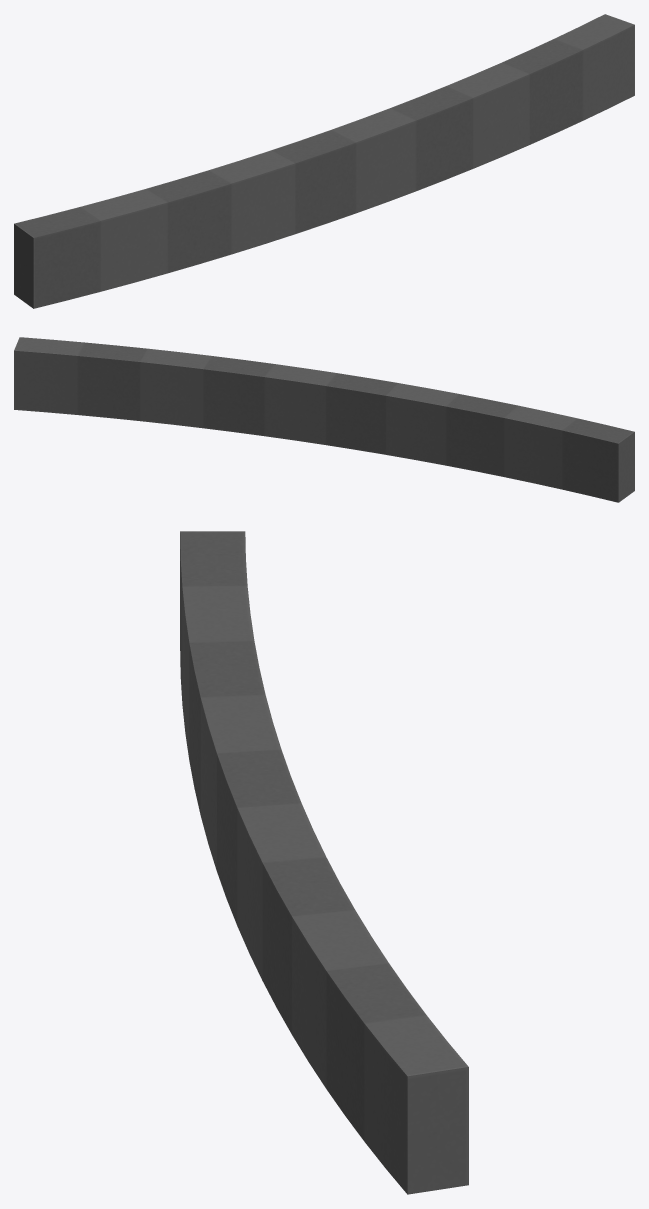
The model's file is Wall_L_20.glb.
The picture shows the model from 3 angles, top to bottom: view 1: azimuth 30°, elevation 25°; view 2: azimuth 150°, elevation 25°; view 3: azimuth 270°, elevation 25°; orthographic projection. The views are drawn at different scales.
Visible parts, largest first — view 1: Wall_L_20; view 2: Wall_L_20; view 3: Wall_L_20.
Boxes of the visible parts, x1,y1,x2,y2 form: Wall_L_20: (14, 14, 634, 308); Wall_L_20: (14, 337, 634, 502); Wall_L_20: (180, 531, 468, 1194).
Bounding box in the file's own units: 9.88 × 1 × 2.21.
1 material, 1 textured.
